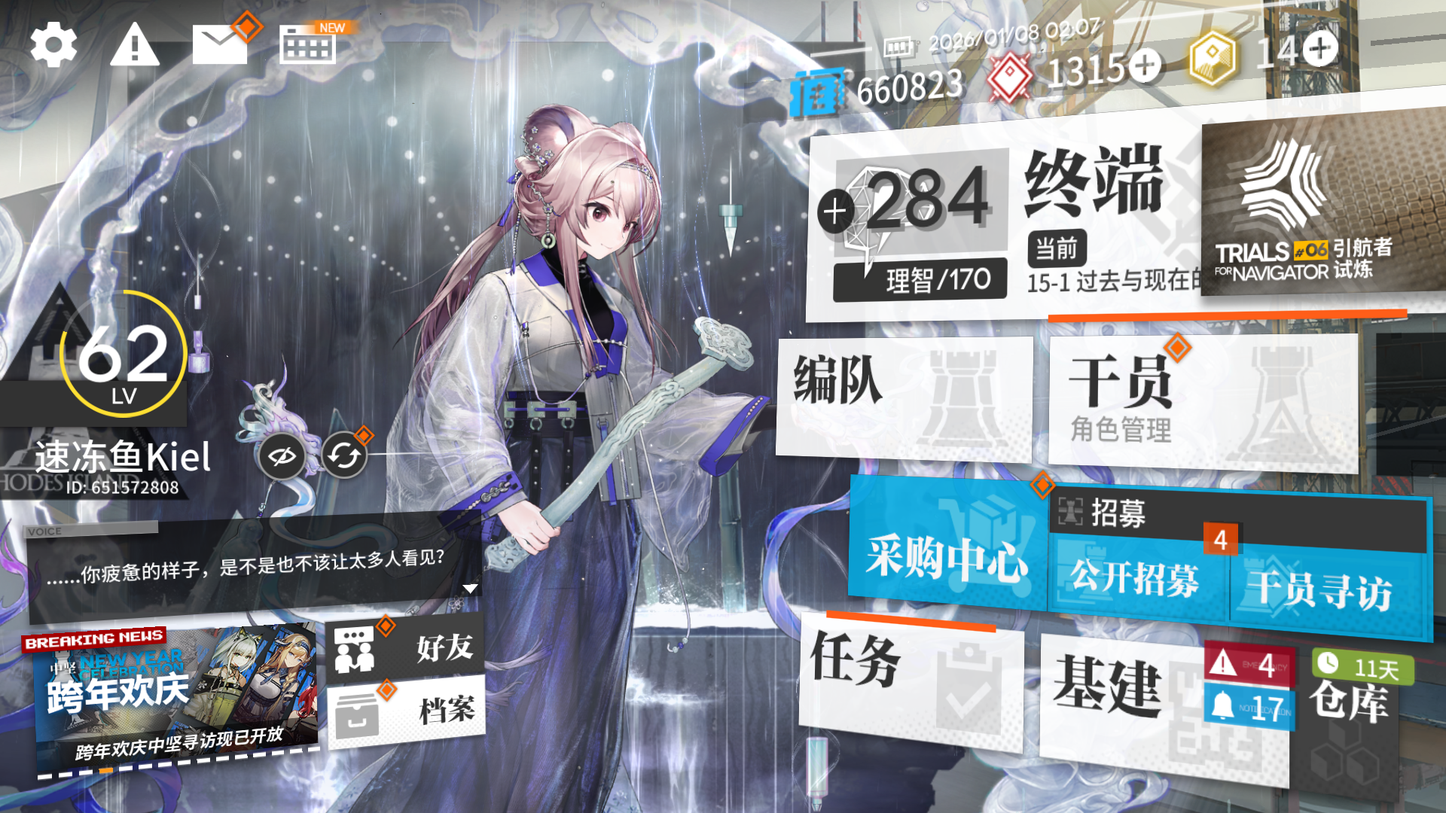home_button: (1005, 151, 1158, 239)
infrastructure_button: (1048, 631, 1265, 767)
